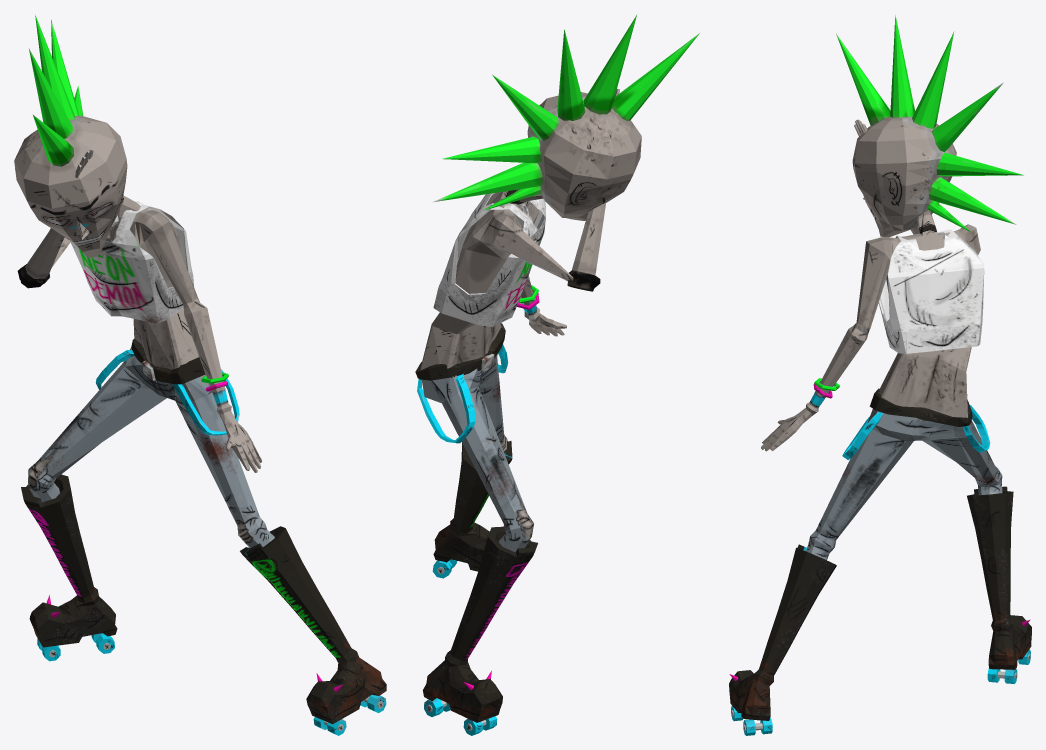
Rendered from punkAnimation_000016.obj.
The picture shows the model from 3 angles, left to right: view 1: azimuth 30°, elevation 25°; view 2: azimuth 150°, elevation 25°; view 3: azimuth 270°, elevation 25°; orthographic projection. The views are drawn at different scales.
Visible parts, largest first — view 1: Cube.004_Cube.003; view 2: Cube.004_Cube.003; view 3: Cube.004_Cube.003.
Boxes of the visible parts, x1,y1,x2,y2 form: Cube.004_Cube.003: [14, 15, 386, 735]; Cube.004_Cube.003: [415, 15, 699, 735]; Cube.004_Cube.003: [729, 15, 1031, 735].
Size of the model in its own units: 3.15 by 6.71 by 3.01.
